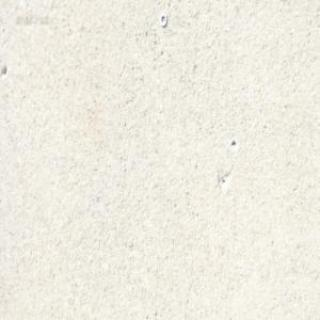Washertrack_idkeyframe: (158, 12, 166, 26)
